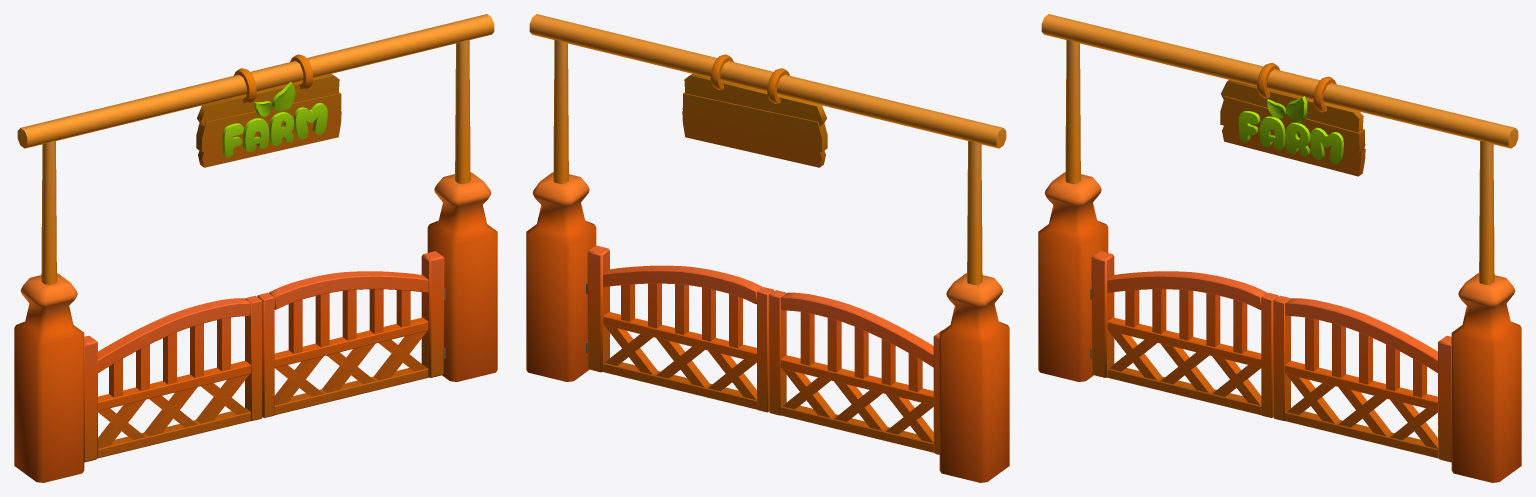
File: Props_Farm_Gate_01.fbx
3 views of the same model, side by side, from view 1: azimuth 30°, elevation 25°; view 2: azimuth 150°, elevation 25°; view 3: azimuth 330°, elevation 25° (orthographic).
Visible parts, largest first — view 1: Props_Farm_Gate_01, Props_Farm_Gate_01_A, Props_Farm_Gate_01_B; view 2: Props_Farm_Gate_01, Props_Farm_Gate_01_A, Props_Farm_Gate_01_B; view 3: Props_Farm_Gate_01, Props_Farm_Gate_01_B, Props_Farm_Gate_01_A.
Boxes of the visible parts, left/top/right/bottom form: Props_Farm_Gate_01: left=14, top=14, right=497, bottom=482; Props_Farm_Gate_01_A: left=257, top=251, right=444, bottom=417; Props_Farm_Gate_01_B: left=84, top=295, right=262, bottom=462; Props_Farm_Gate_01: left=526, top=14, right=1009, bottom=482; Props_Farm_Gate_01_A: left=587, top=245, right=774, bottom=412; Props_Farm_Gate_01_B: left=769, top=290, right=942, bottom=454; Props_Farm_Gate_01: left=1038, top=14, right=1521, bottom=482; Props_Farm_Gate_01_B: left=1091, top=251, right=1278, bottom=417; Props_Farm_Gate_01_A: left=1273, top=295, right=1451, bottom=462.
Bounding box in the file's own units: 591 × 425 × 60.37.
